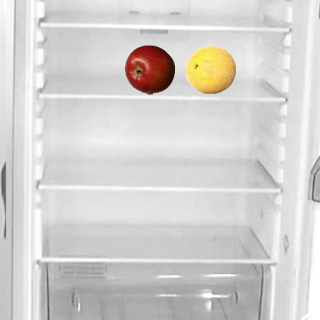Apple Braeburn: (124, 44, 174, 94)
Cantaloupe 1: (185, 44, 235, 94)
